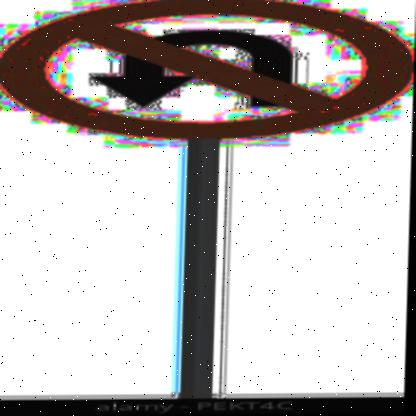No U-turn: (0, 0, 416, 142)
